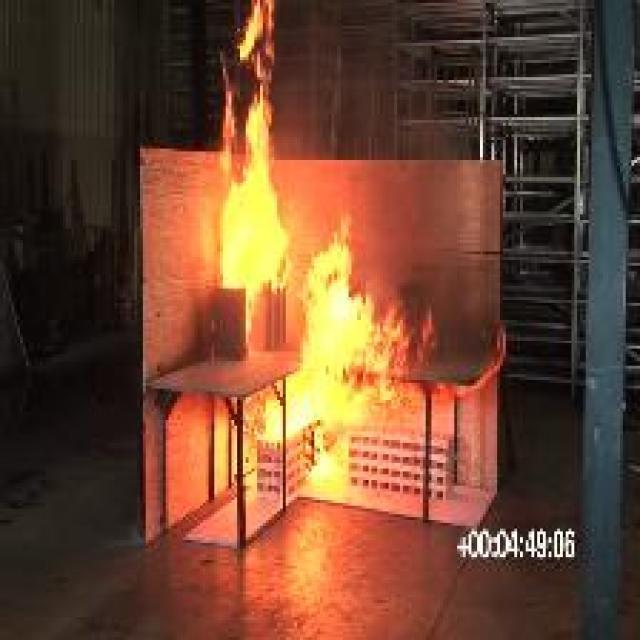Fire: (257, 220, 409, 483), (217, 1, 289, 342)
